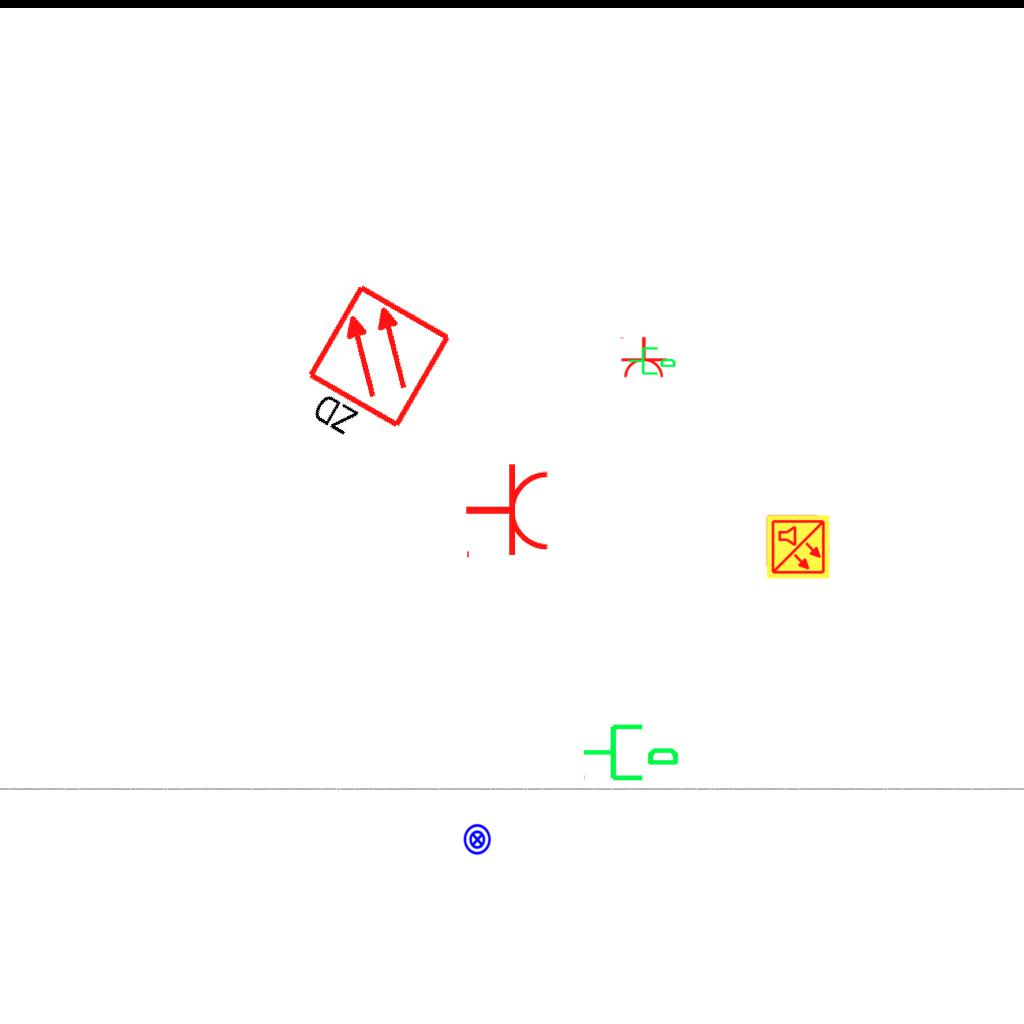Datenanschluss_einfach: (581, 716, 681, 785), (627, 343, 677, 377)
OKW_Multisensormelder_(Kombination_optischer_Rauch-Kahlenmonoxid_Waerme-Melder): (765, 514, 831, 580)
Schukosteckdose_einfach: (464, 462, 551, 562), (618, 336, 668, 379)
Taster_beleuchtet: (461, 823, 494, 856)
ZD_Melder_in_Zwischendecke_mit_Revisionsoeffnung_mind_40_x_40_cm: (284, 280, 458, 467)
